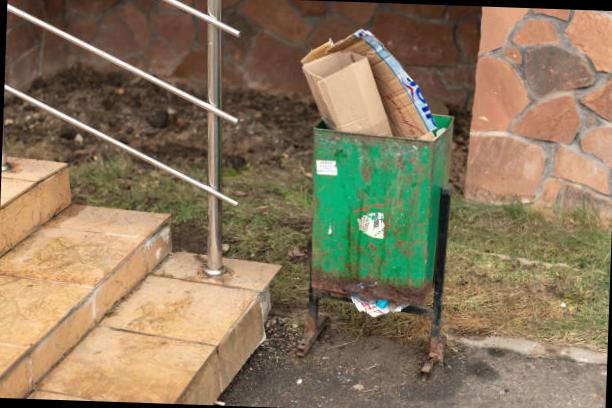trash: (304, 20, 450, 148), (329, 294, 416, 324)
trash_can_overflow: (279, 7, 469, 374)
